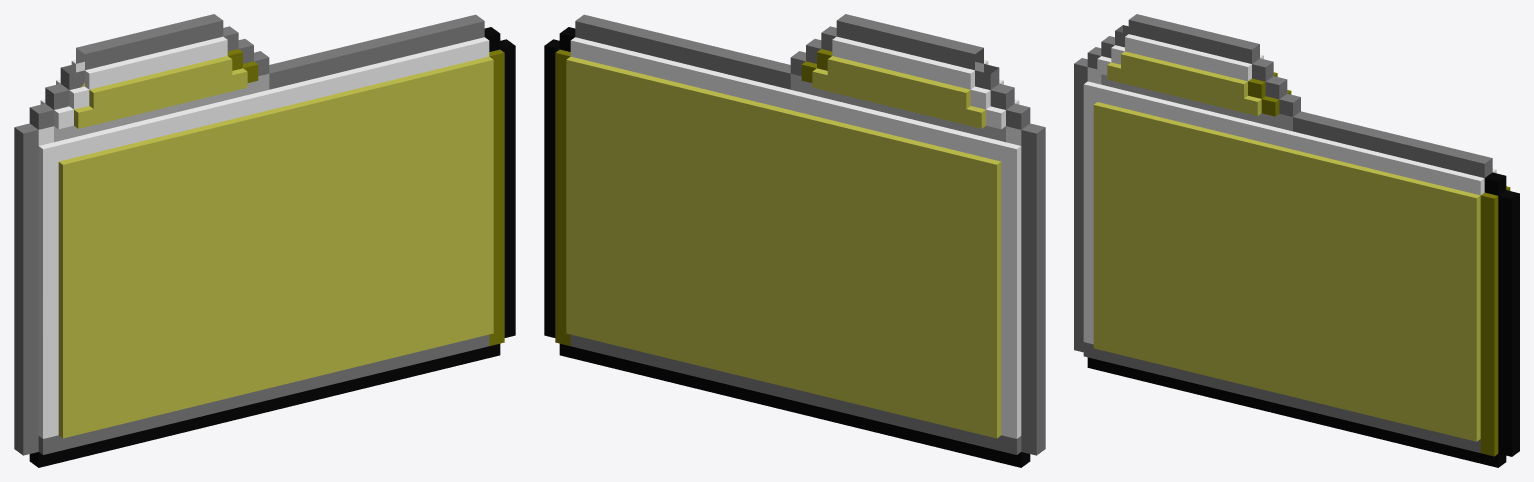
The model's file is folder.glb.
3 views of the same model, side by side, from view 1: azimuth 30°, elevation 25°; view 2: azimuth 150°, elevation 25°; view 3: azimuth 330°, elevation 25° (orthographic). The views are drawn at different scales.
Visible parts, largest first — view 1: icon.031_31; view 2: icon.031_31; view 3: icon.031_31.
Boxes of the visible parts, x1,y1,x2,y2 form: icon.031_31: (14,14,515,467); icon.031_31: (544,14,1045,467); icon.031_31: (1074,14,1519,467).
Bounding box in the file's own units: 32 × 25 × 3.
1 material, 1 textured.
